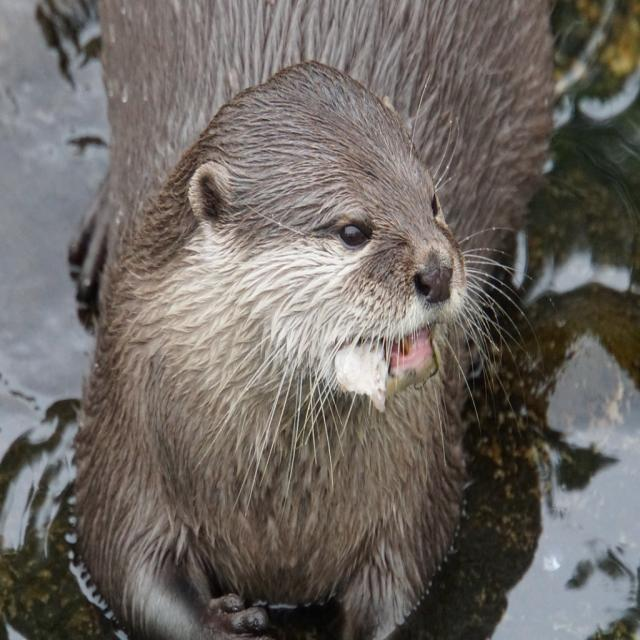otter: (109, 66, 467, 607)
